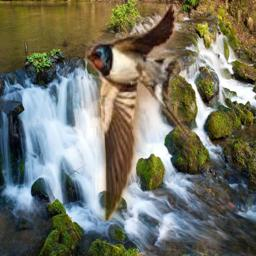Swallow: (85, 4, 215, 221)
